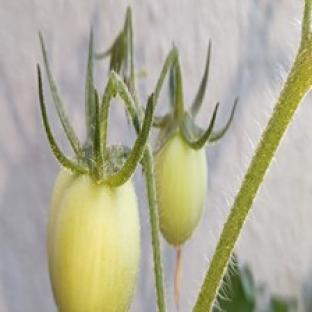Tomato: (48, 172, 140, 311), (155, 133, 207, 246)
